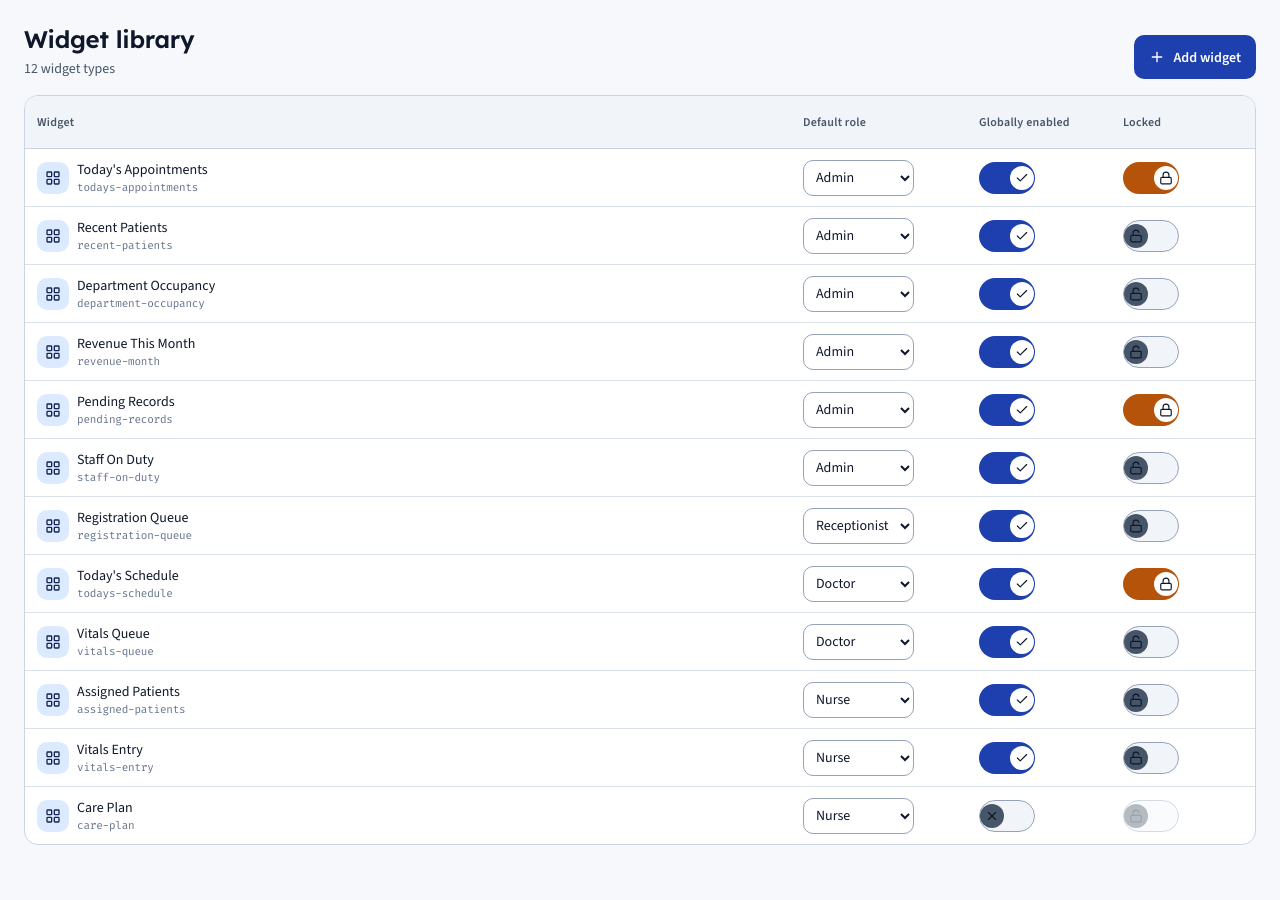
Test: WidgetLibraryPage (#10) › adds a widget through the modal
Click the button with test id "add-widget" at x=1195, y=57, box [1134,35,1256,79]
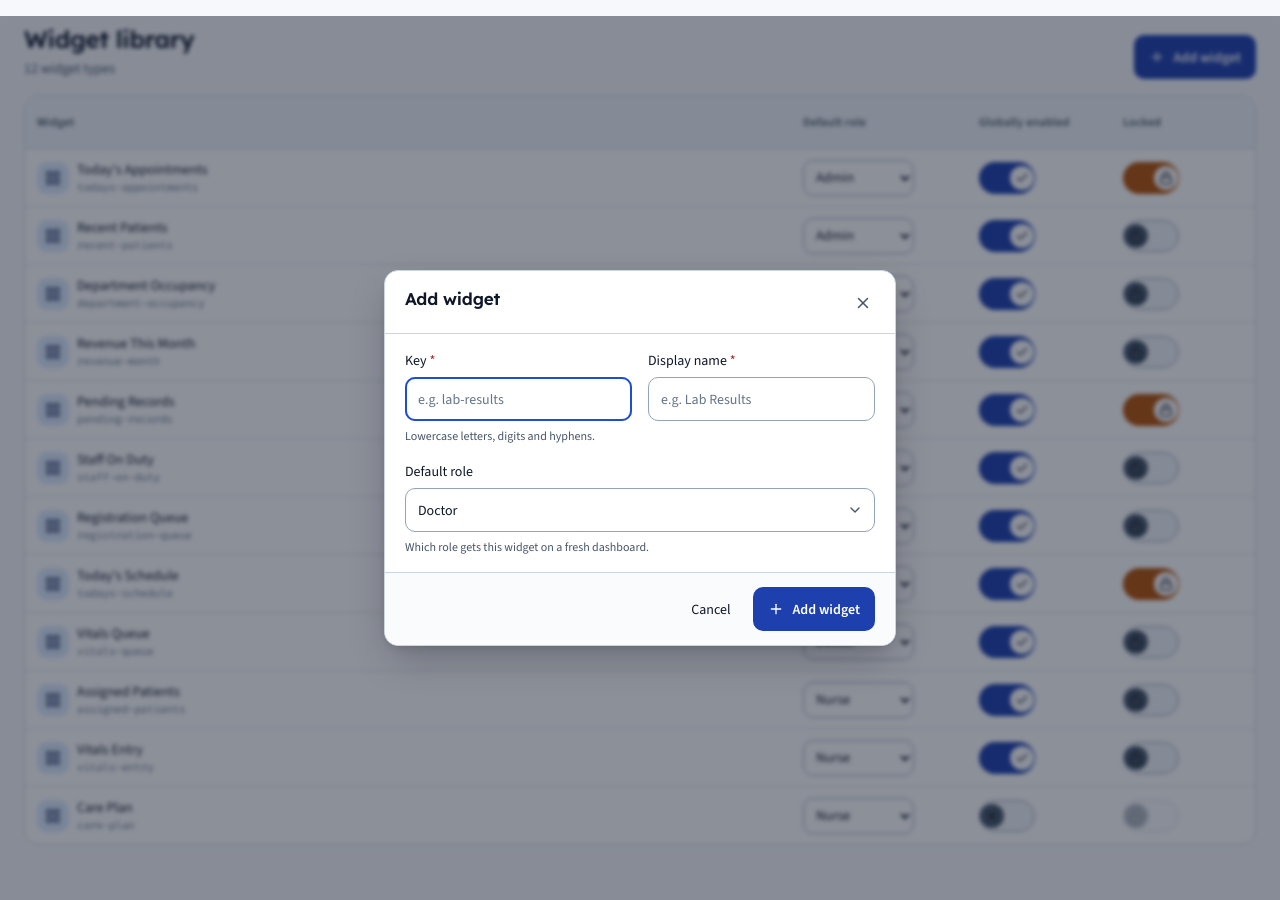
Type "lab-results" into the field labelled "Key *" at x=518, y=399, box [405,377,632,421]
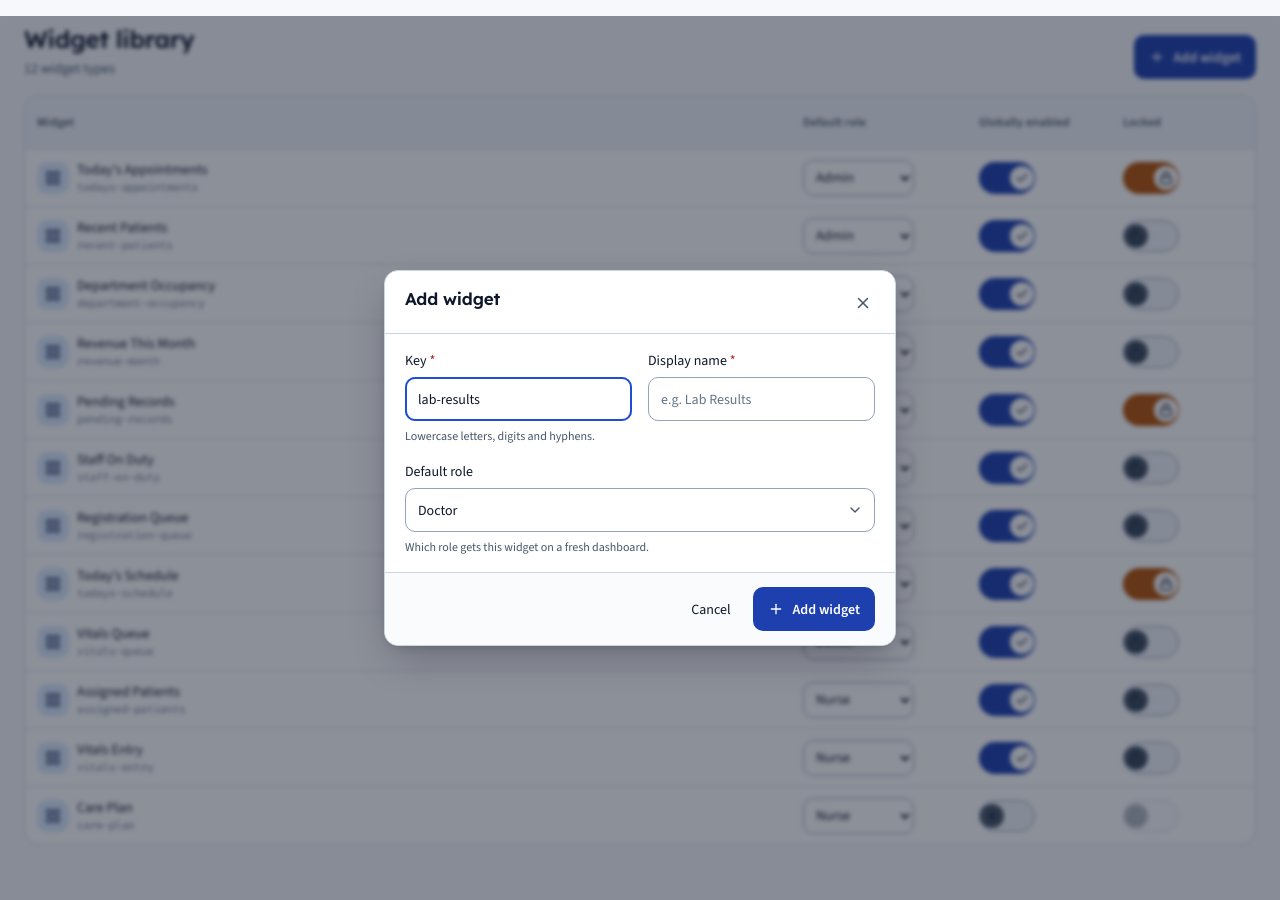
Type "Lab Results" into the field labelled "Display name *" at x=762, y=399, box [648,377,875,421]
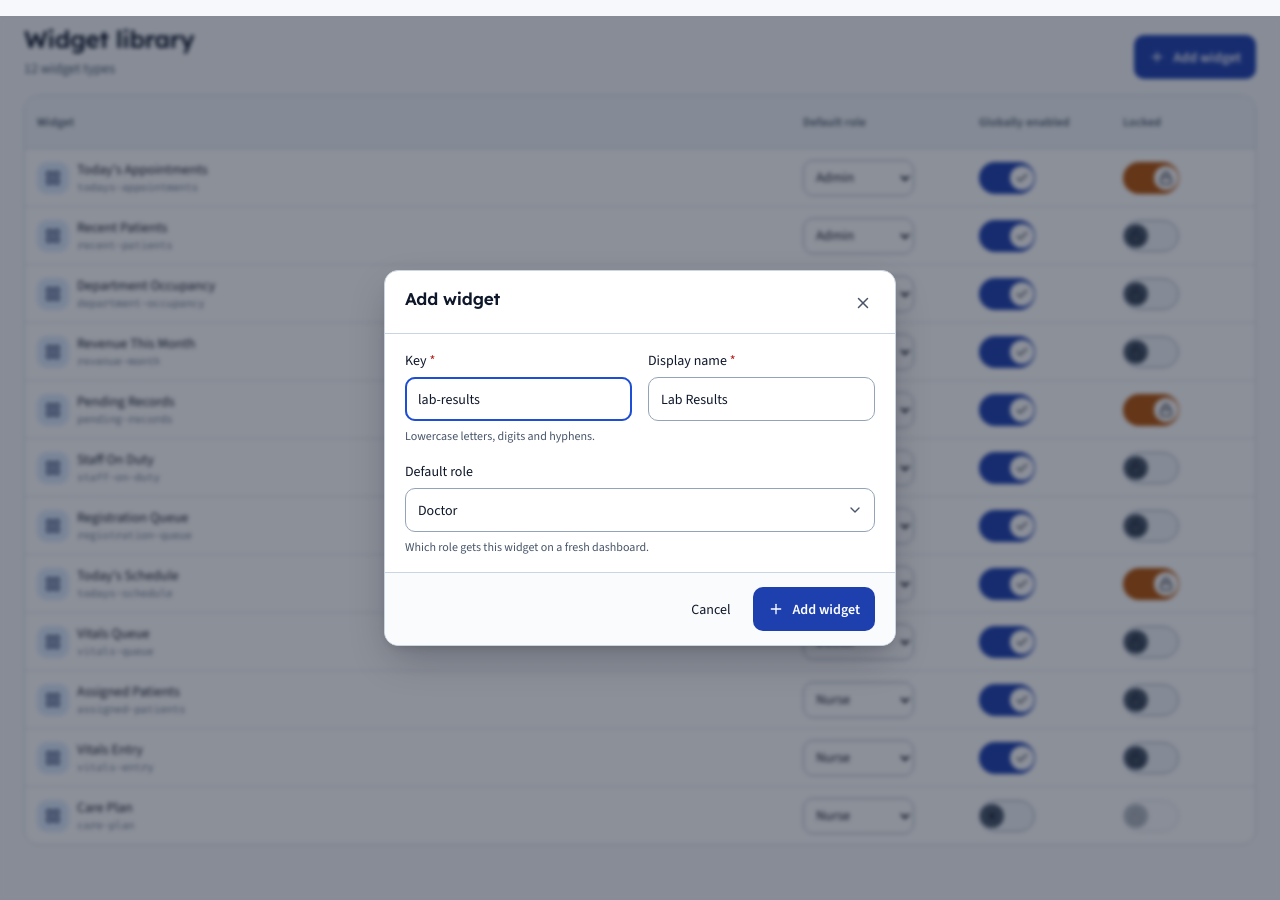
Click the button "Add widget" at x=814, y=609, box [754,587,875,631]
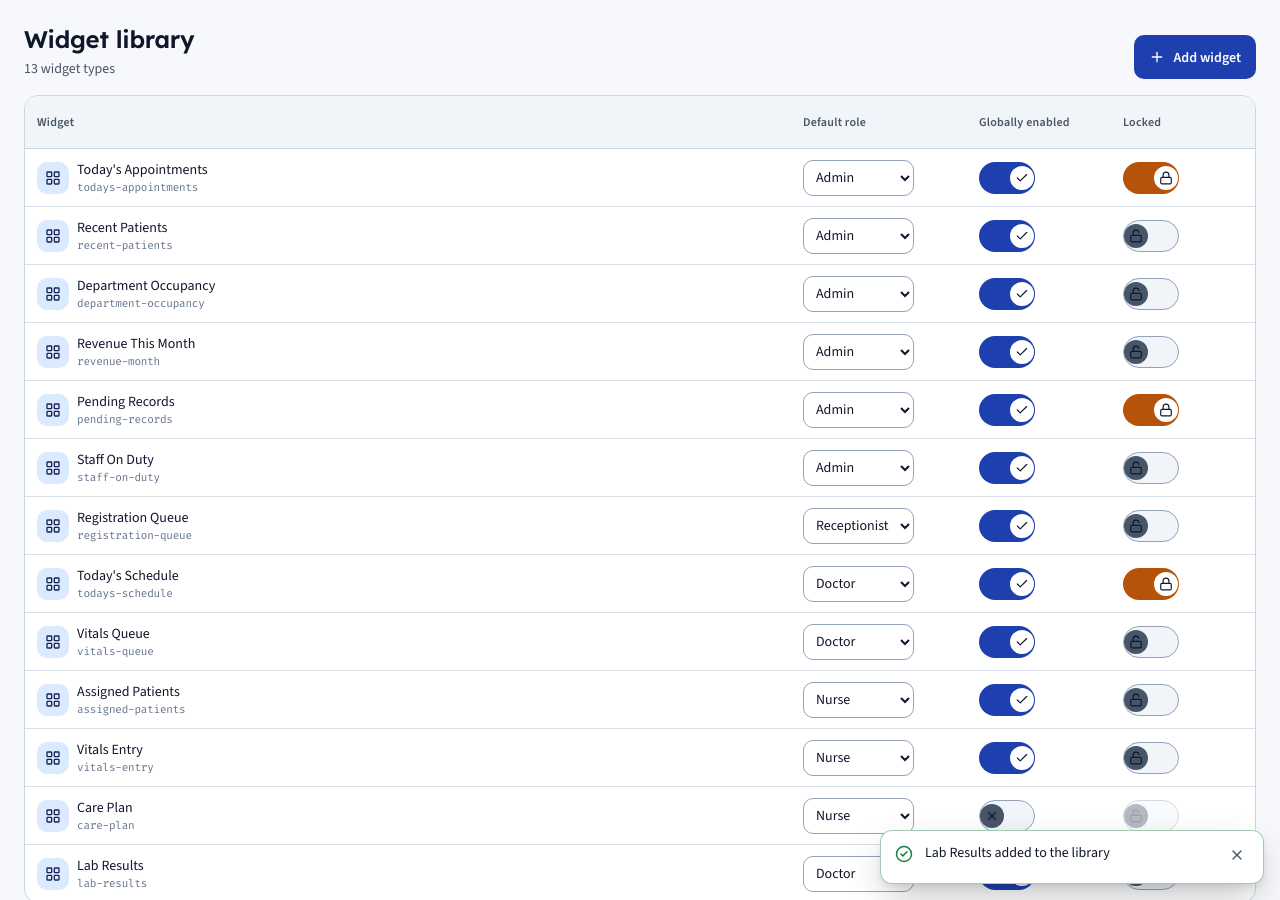
Result: the text "Lab Results" is shown at [77,855,147,876]
